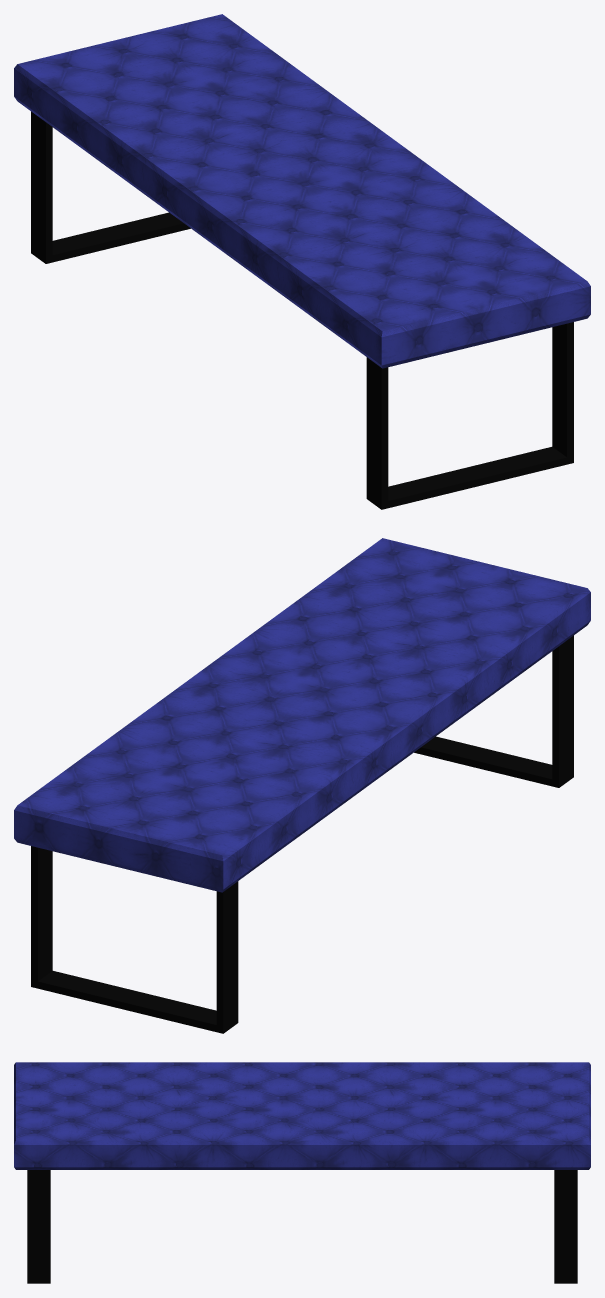
Rendered from Seat.glb.
The picture shows the model from 3 angles, top to bottom: view 1: azimuth 30°, elevation 25°; view 2: azimuth 150°, elevation 25°; view 3: azimuth 270°, elevation 25°; orthographic projection. The views are drawn at different scales.
Parts seen in each view (by area): view 1: Bench 1; view 2: Bench 1; view 3: Bench 1.
Part boxes in pixels (<box>): Bench 1: <box>14,14,590,509</box>; Bench 1: <box>14,538,590,1033</box>; Bench 1: <box>14,1062,590,1283</box>.
Size of what is drawn, in the model's own units: 0.8959 by 0.7581 by 2.72.
2 materials, 2 textured.
